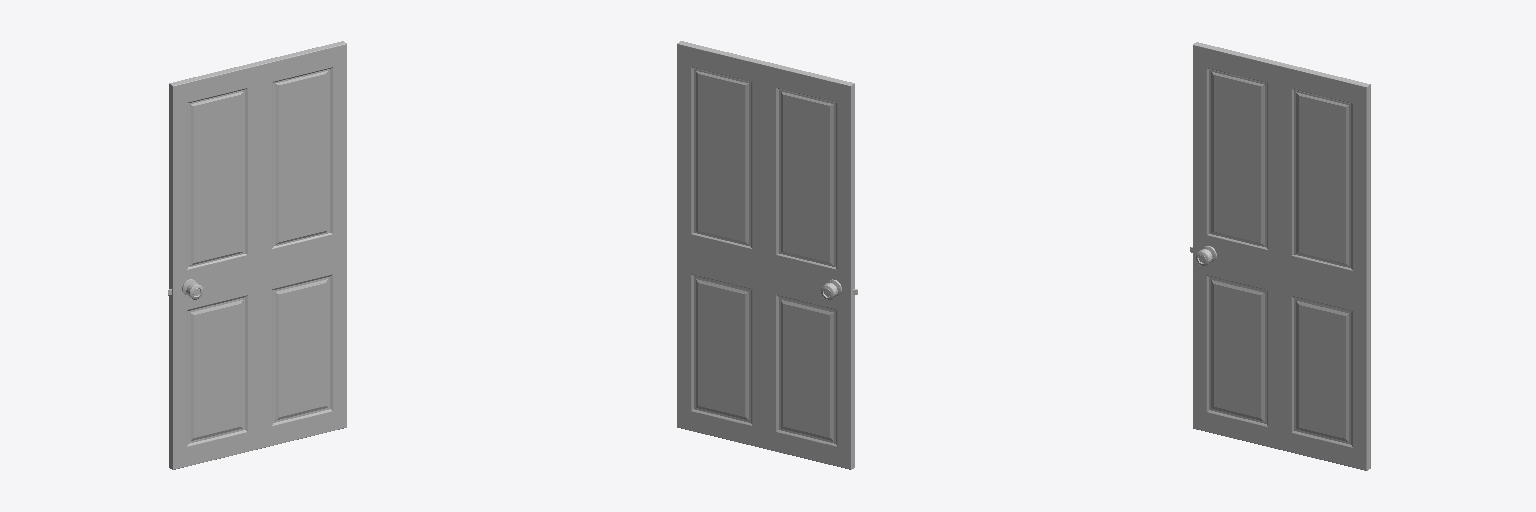
The model's file is Door.obj.
3 views of the same model, side by side, from view 1: azimuth 30°, elevation 25°; view 2: azimuth 150°, elevation 25°; view 3: azimuth 330°, elevation 25° (orthographic).
Parts seen in each view (by area): view 1: Geo_Door_01 Ctrl_Door_01 DoorRig_01; view 2: Geo_Door_01 Ctrl_Door_01 DoorRig_01; view 3: Geo_Door_01 Ctrl_Door_01 DoorRig_01.
Boxes of the visible parts, x1=… form: Geo_Door_01 Ctrl_Door_01 DoorRig_01: x1=169, y1=41, x2=346, y2=469; Geo_Door_01 Ctrl_Door_01 DoorRig_01: x1=677, y1=41, x2=854, y2=469; Geo_Door_01 Ctrl_Door_01 DoorRig_01: x1=1193, y1=42, x2=1370, y2=470.
Bounding box in the file's own units: 88.63 × 183 × 16.72.